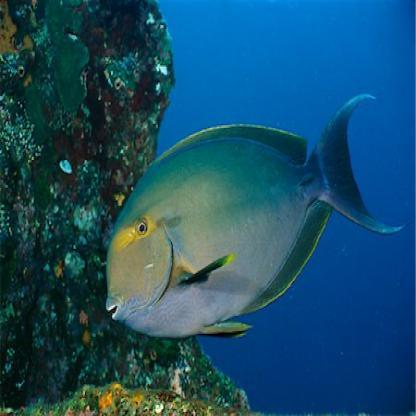Bio: (97, 79, 399, 348)
